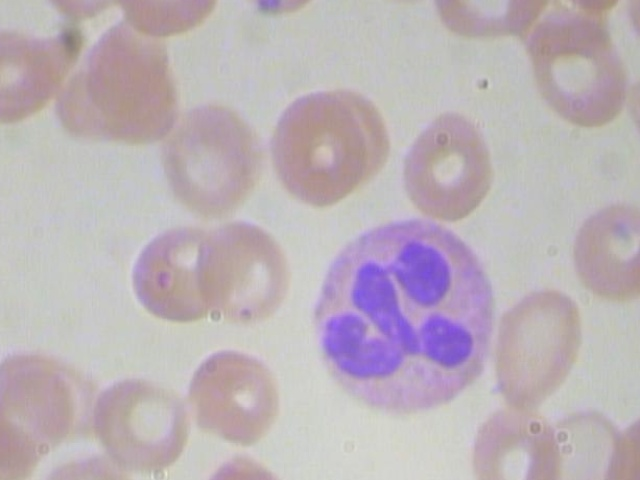RBC: (519, 12, 633, 135), (85, 357, 194, 480), (189, 204, 297, 328), (483, 283, 584, 415), (118, 210, 226, 333), (165, 96, 265, 226), (266, 84, 368, 206), (397, 104, 496, 224), (184, 342, 286, 452), (561, 182, 640, 302), (111, 0, 219, 40), (32, 0, 140, 23), (224, 0, 330, 21)
WBC: (306, 214, 504, 428)
